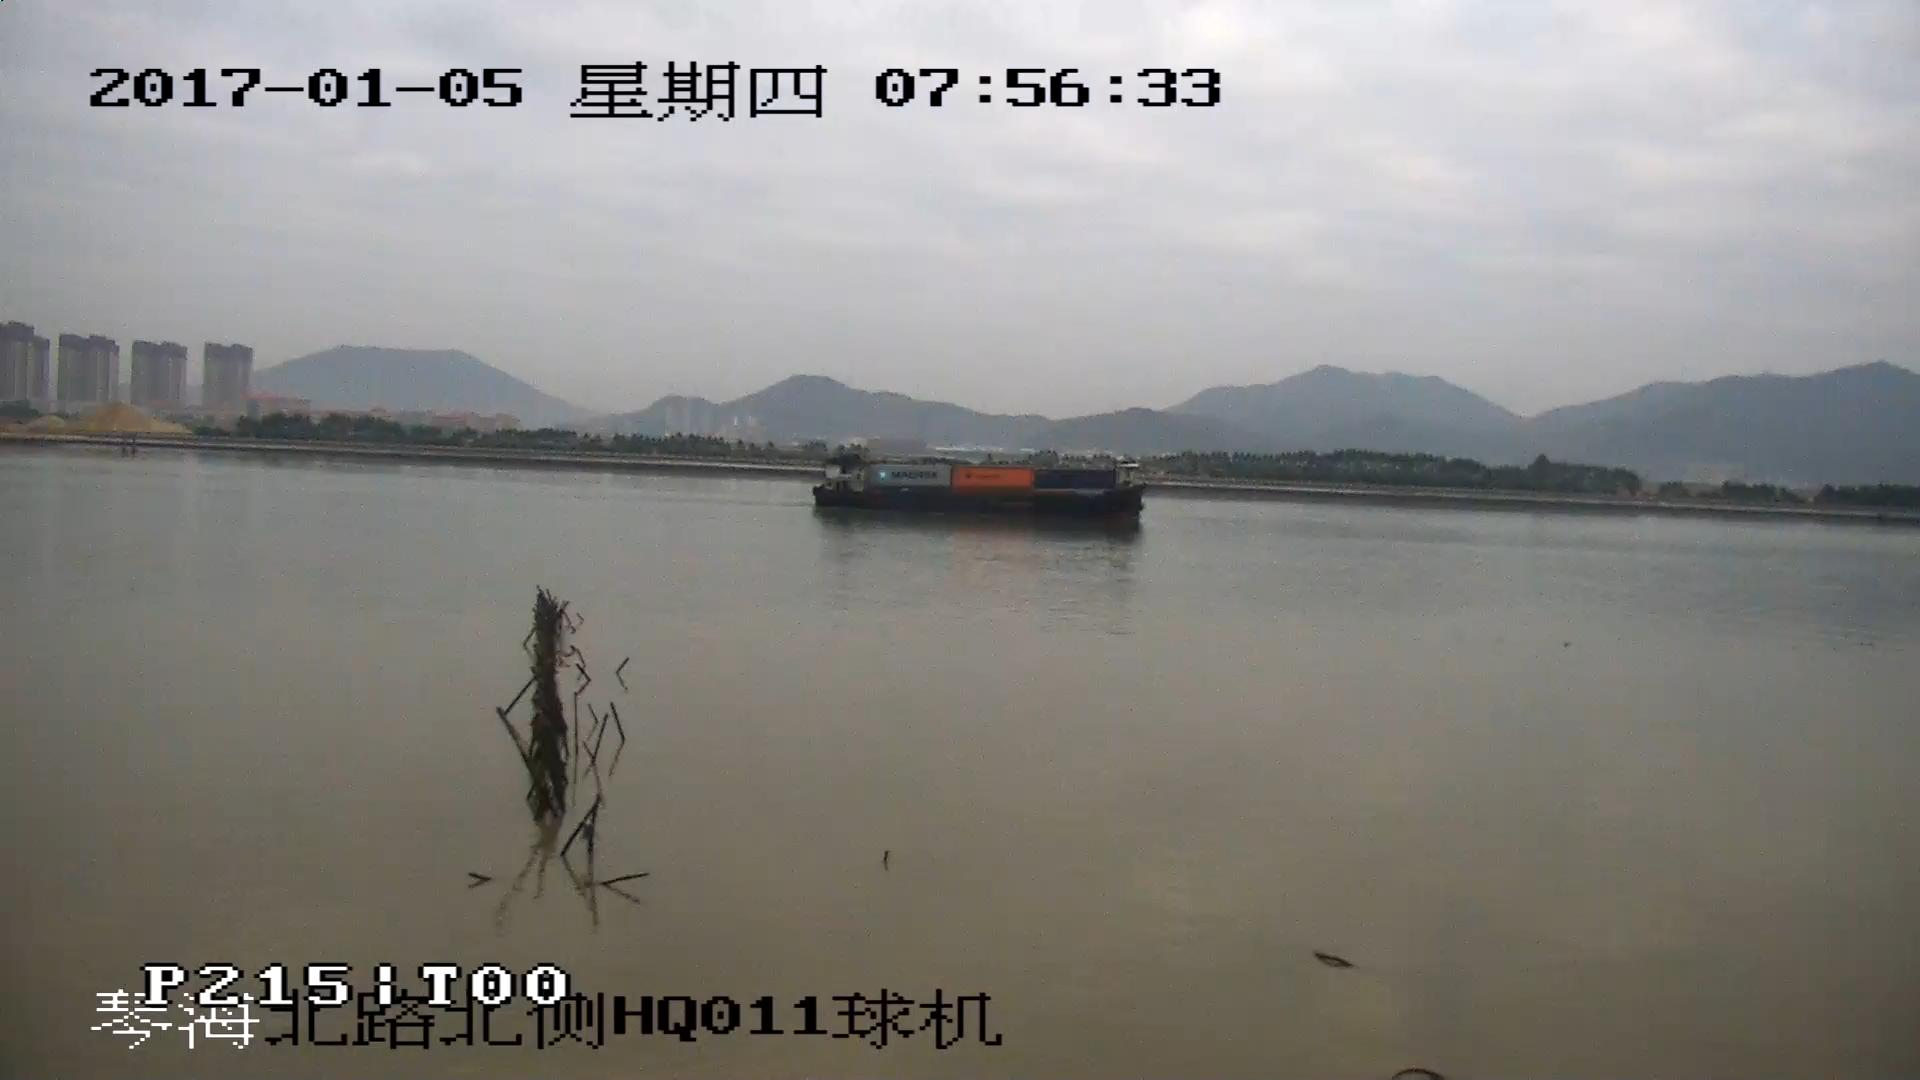container ship: (814, 458, 1145, 529)
